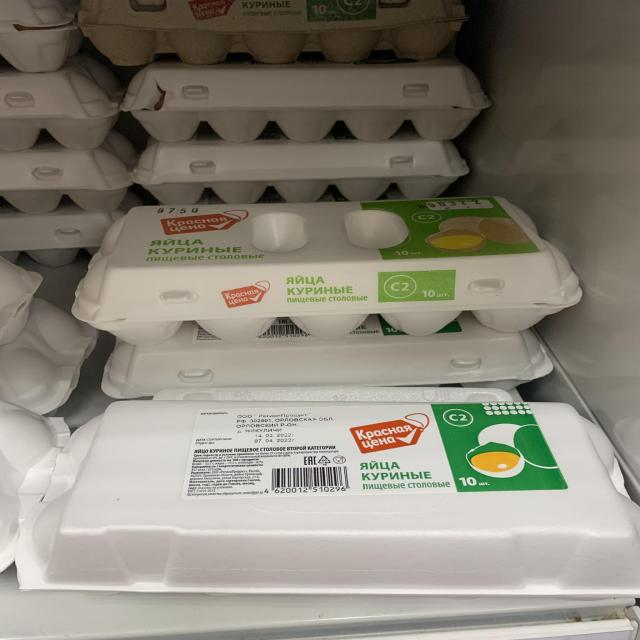organic waste: (12, 402, 640, 598), (72, 195, 588, 340), (70, 0, 471, 65)
